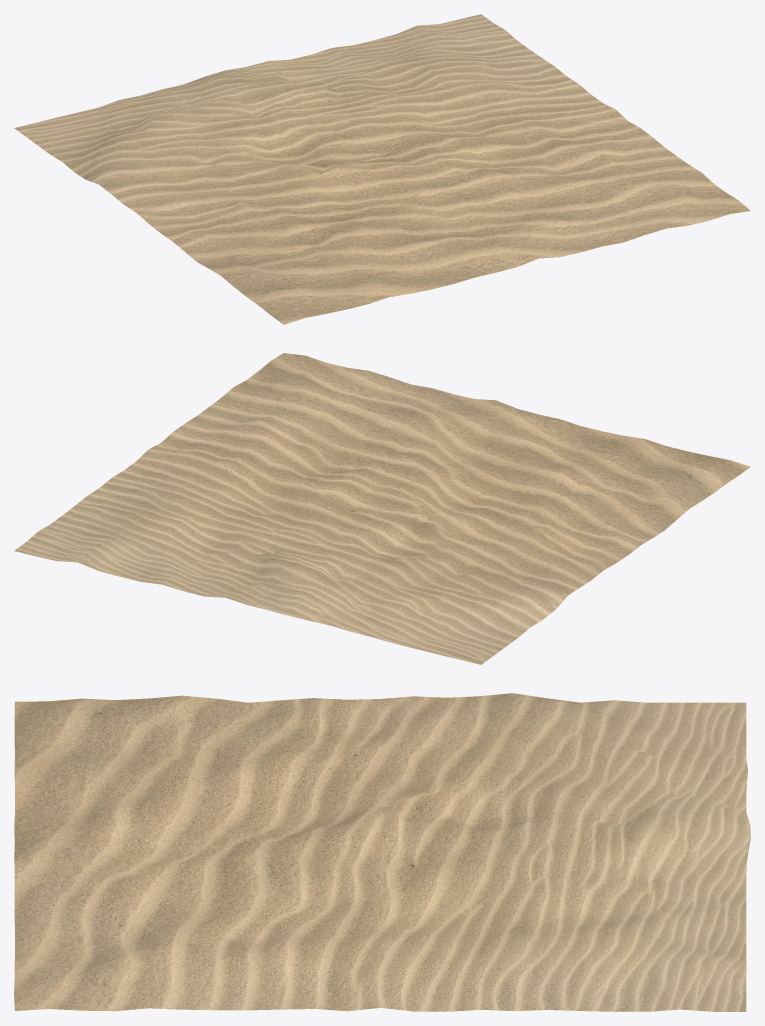
Rendered from areia.obj.
The picture shows the model from 3 angles, top to bottom: view 1: azimuth 30°, elevation 25°; view 2: azimuth 150°, elevation 25°; view 3: azimuth 270°, elevation 25°; orthographic projection. The views are drawn at different scales.
Visible parts, largest first — view 1: Plane; view 2: Plane; view 3: Plane.
Part boxes in pixels (x1,y1,x2,y2): Plane: (14, 14, 750, 324); Plane: (14, 353, 750, 664); Plane: (14, 693, 750, 1011).
Bounding box in the file's own units: 178 × 5.41 × 179.
